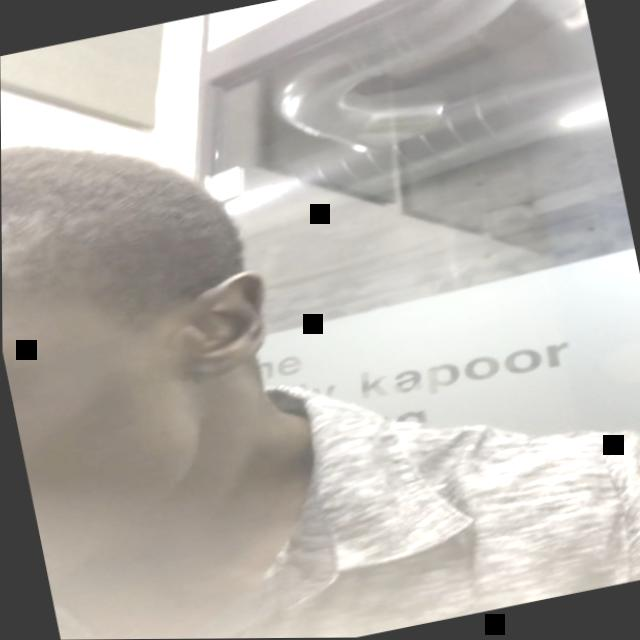NO-Mask: (1, 218, 280, 593)
